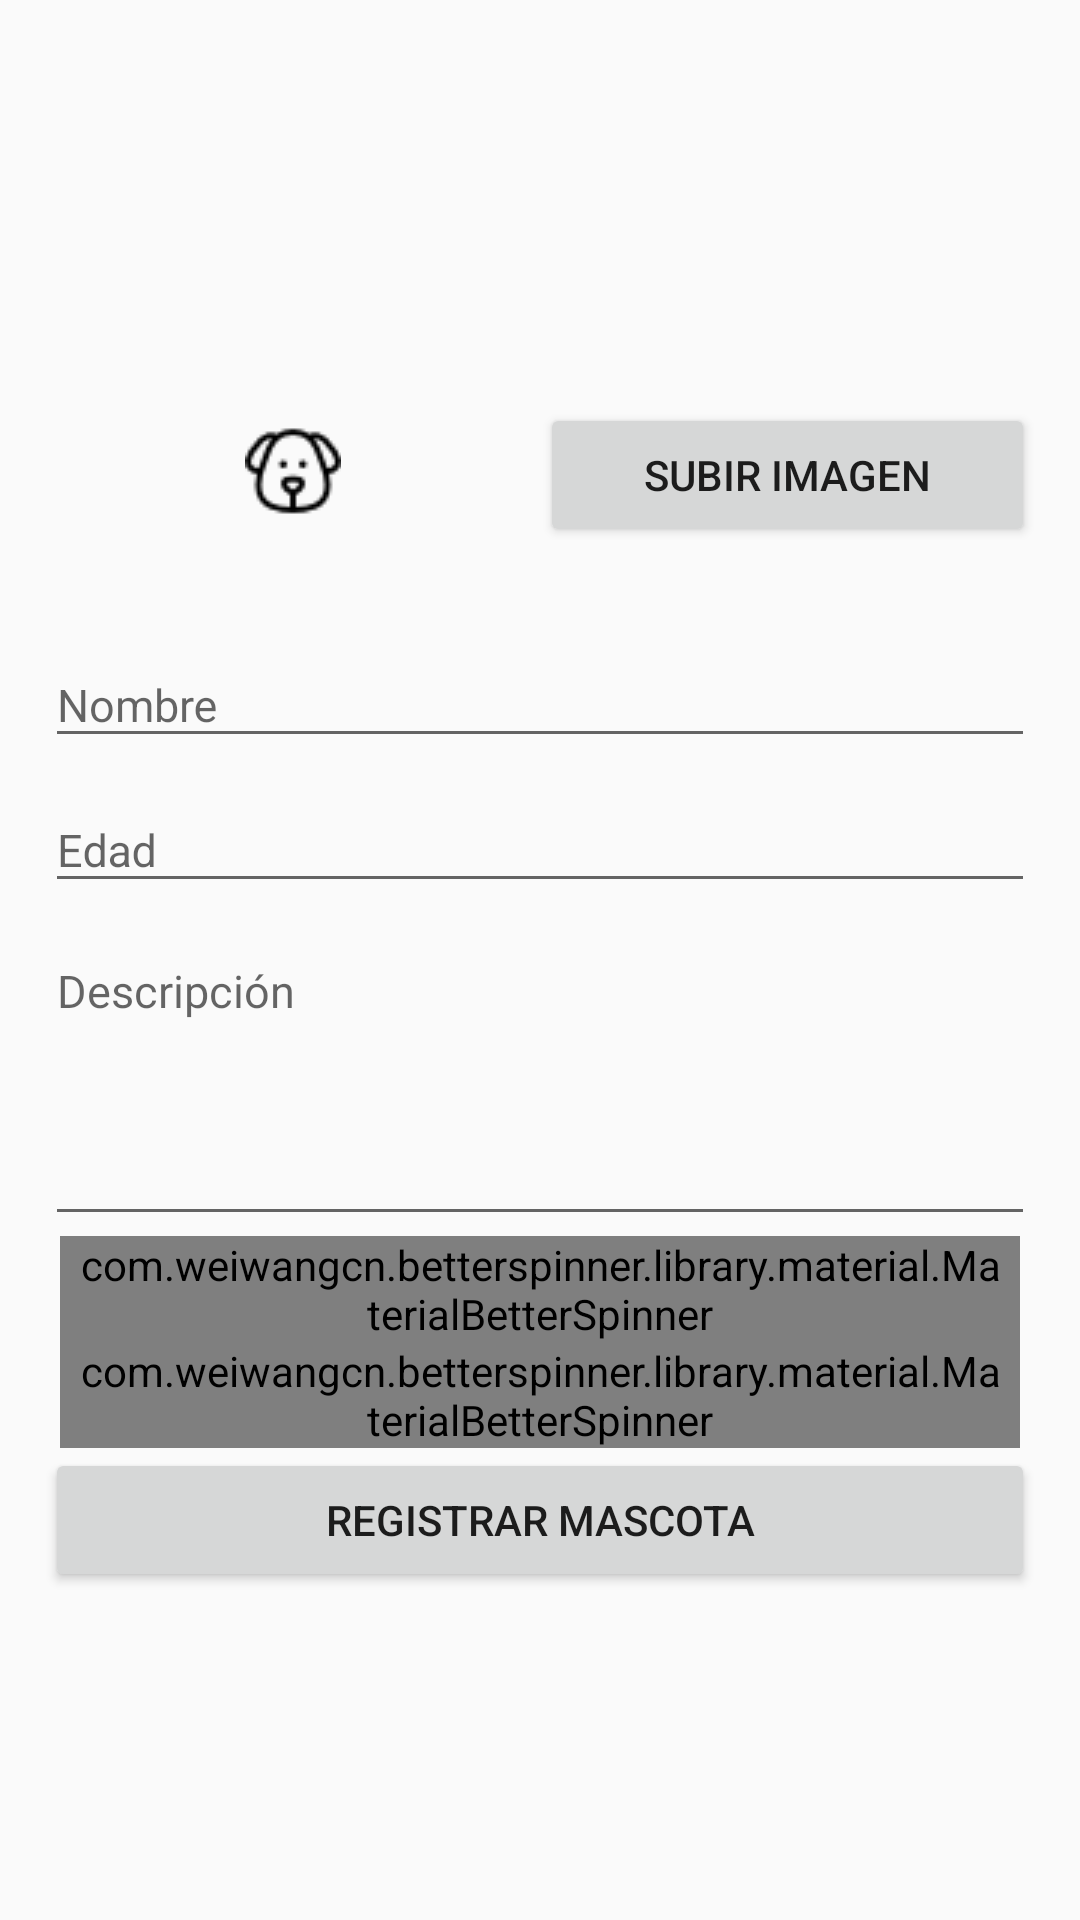

Where to tap for icons on this 1080px×1920px app screen, as [x,y]:
dog: [293,471]
